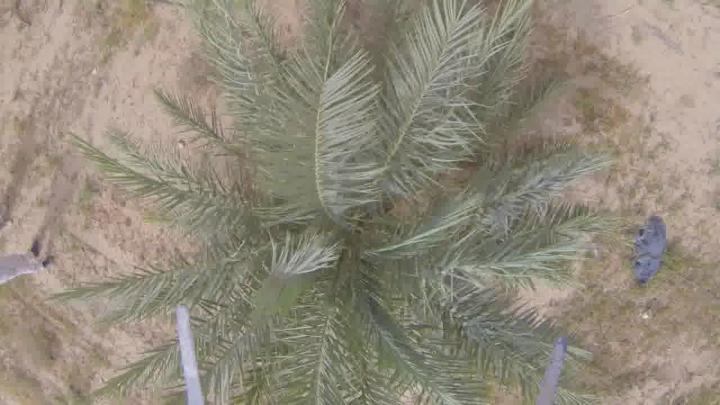Date-Palm-Crown: (206, 70, 504, 400)
